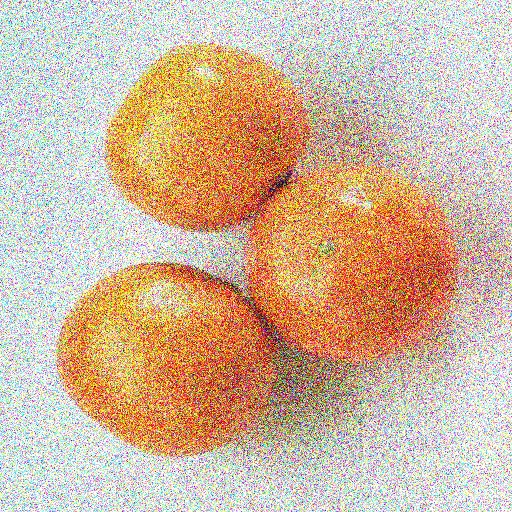fruit: (130, 196, 396, 512), (178, 72, 414, 253), (427, 128, 488, 432)
